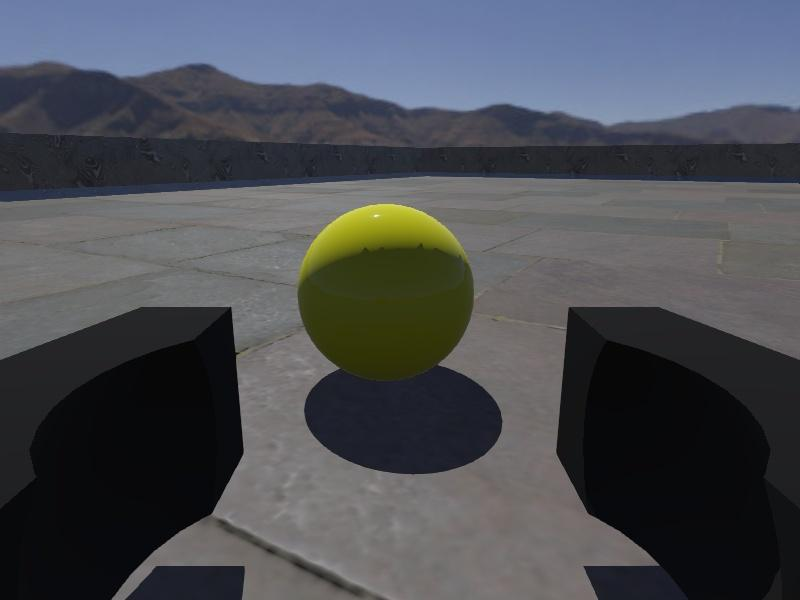yellow ball: (298, 202, 474, 383)
